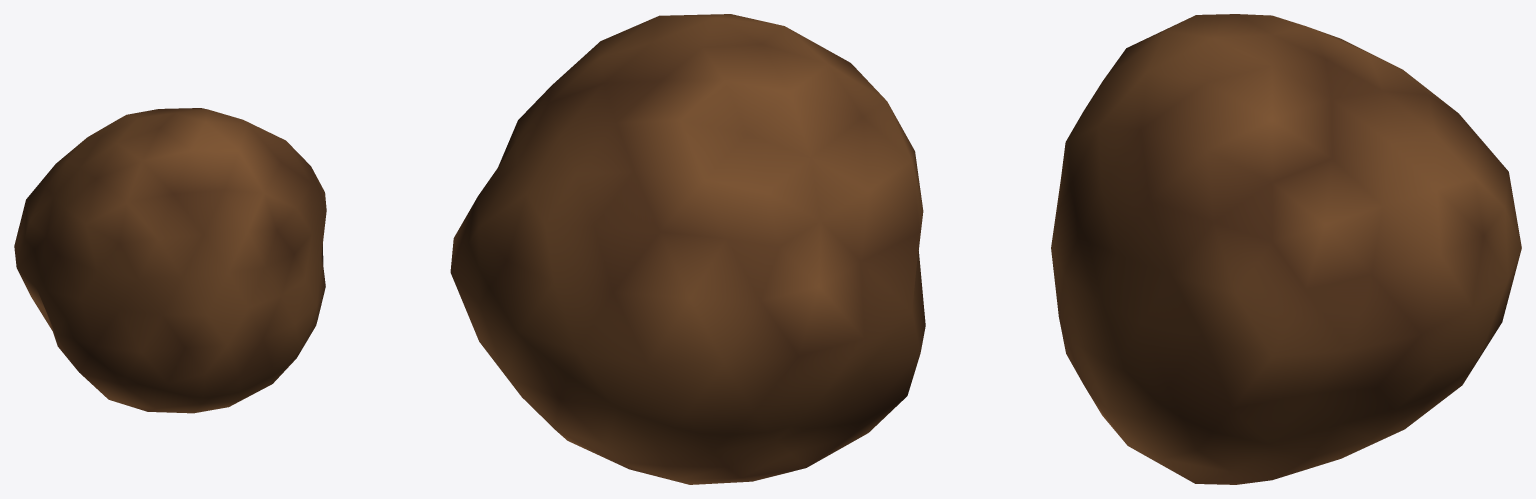
File: coconut.glb
The picture shows the model from 3 angles, left to right: view 1: azimuth 30°, elevation 25°; view 2: azimuth 150°, elevation 25°; view 3: azimuth 270°, elevation 25°; orthographic projection. The views are drawn at different scales.
Parts seen in each view (by area): view 1: Coconut; view 2: Coconut; view 3: Coconut.
Boxes of the visible parts, x1,y1,x2,y2 form: Coconut: [14, 108, 326, 413]; Coconut: [450, 14, 925, 484]; Coconut: [1051, 14, 1521, 484].
Bounding box in the file's own units: 0.9532 × 0.915 × 0.9001.
